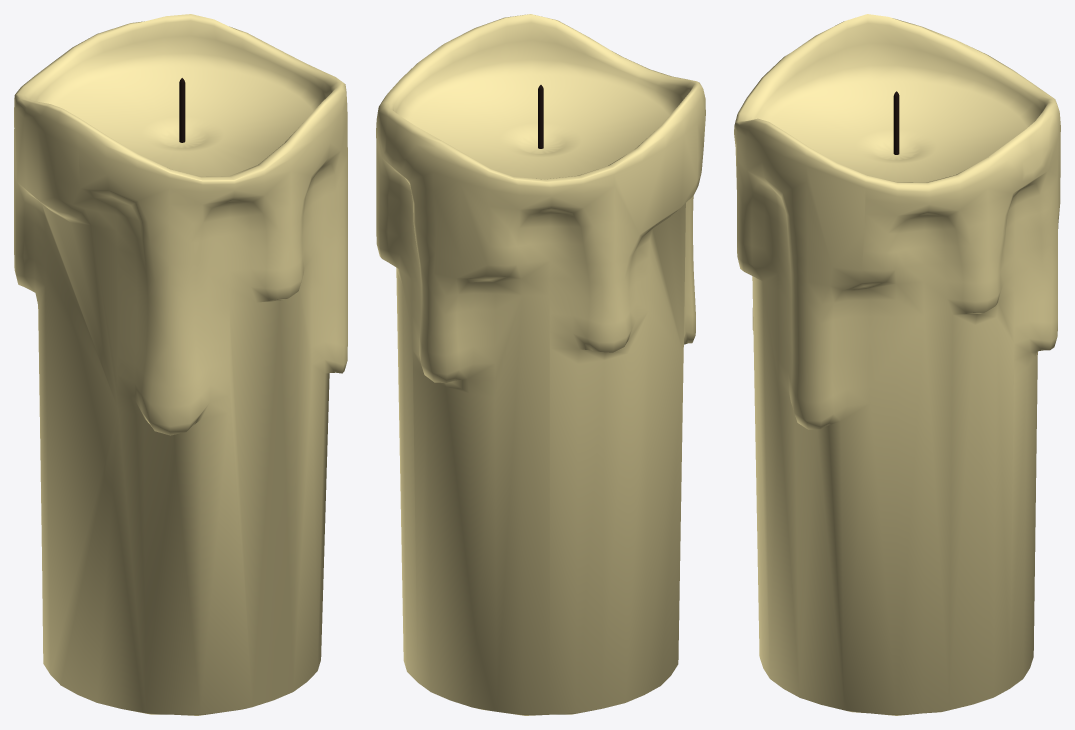
The model's file is Candle.fbx.
3 renders of one model, left to right at view 1: azimuth 30°, elevation 25°; view 2: azimuth 150°, elevation 25°; view 3: azimuth 270°, elevation 25°, orthographic. The views are drawn at different scales.
Visible parts, largest first — view 1: Cylinder; view 2: Cylinder; view 3: Cylinder.
Boxes of the visible parts, x1=… form: Cylinder: x1=14, y1=14, x2=347, y2=715; Cylinder: x1=376, y1=14, x2=705, y2=715; Cylinder: x1=734, y1=14, x2=1060, y2=715.
Bounding box in the file's own units: 44.81 × 90.35 × 44.91.
